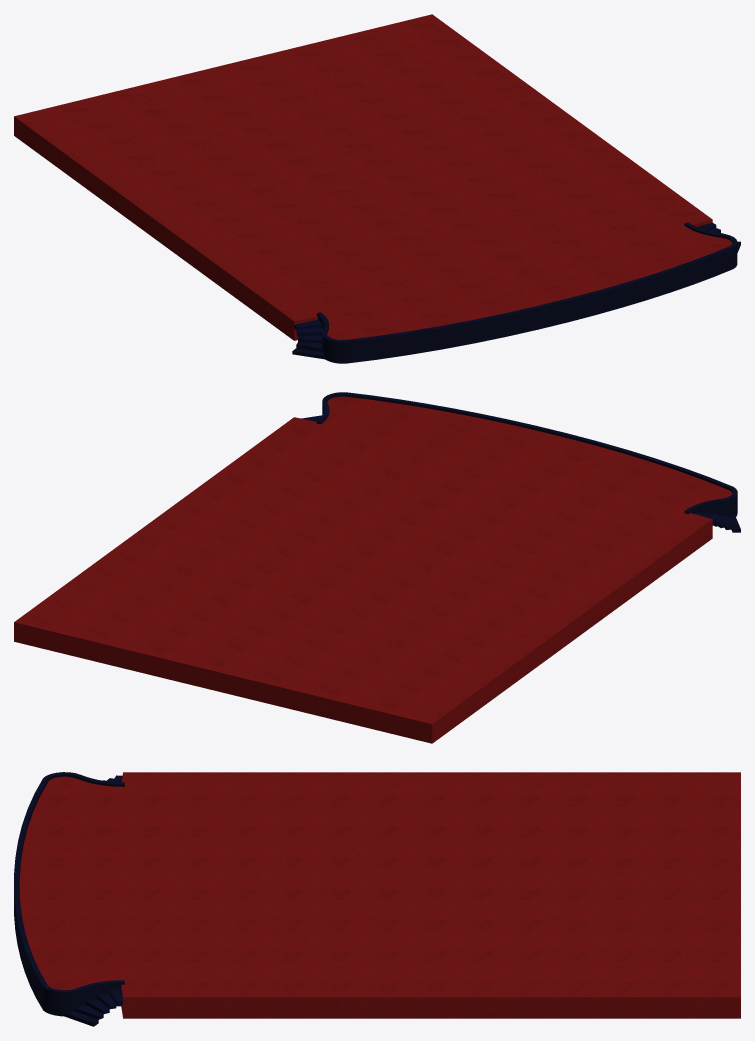
The model's file is stageground.fbx.
3 views of the same model, one above another, from view 1: azimuth 30°, elevation 25°; view 2: azimuth 150°, elevation 25°; view 3: azimuth 270°, elevation 25° (orthographic). The views are drawn at different scales.
Visible parts, largest first — view 1: Ground_geo, ground_edge_mat; view 2: Ground_geo, ground_edge_mat; view 3: Ground_geo, ground_edge_mat.
Part boxes in pixels (bbox=[...]): Ground_geo: bbox=[14, 14, 732, 340]; ground_edge_mat: bbox=[316, 222, 737, 363]; Ground_geo: bbox=[14, 396, 732, 743]; ground_edge_mat: bbox=[316, 392, 737, 517]; Ground_geo: bbox=[19, 772, 740, 1018]; ground_edge_mat: bbox=[14, 772, 124, 1016].
Size of the model in its own units: 2171 by 100 by 2764.
2 materials, 2 textured.
